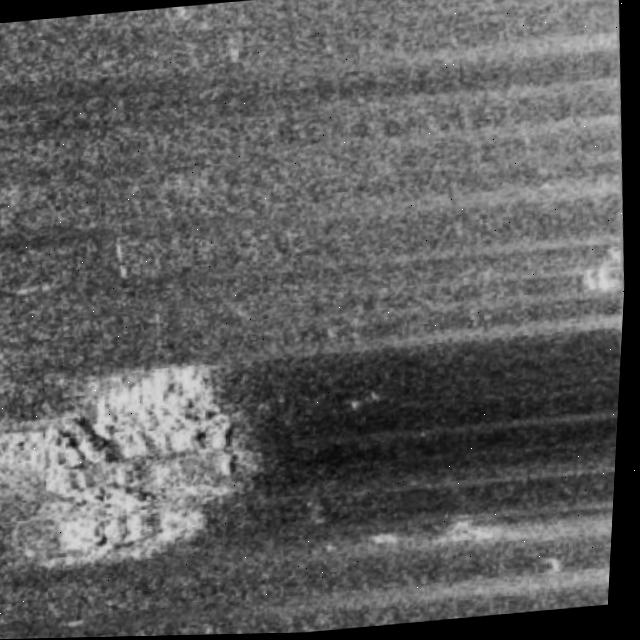bedrock group: (0, 358, 257, 567)
